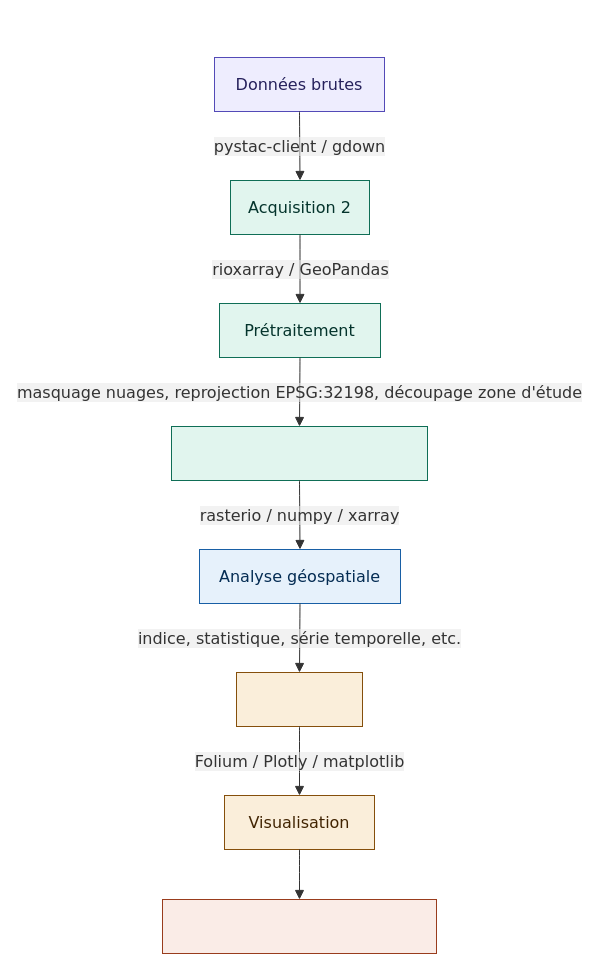
This 599x971 diagram has some shape labels left out. Here are the shapes that lost their labels. From the top down, the centre of each, then its label:
At (299,453): "Nettoyage & harmonisation".
At (299,699): "Résultats".
At (299,926): "Rapport & présentation finale".
